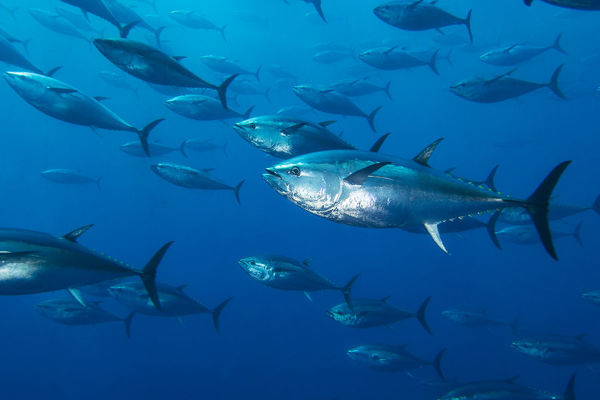Bluefina Tuna: (250, 138, 573, 275), (4, 65, 163, 154), (90, 34, 234, 107), (232, 252, 367, 311), (235, 109, 378, 164), (330, 300, 437, 335)
